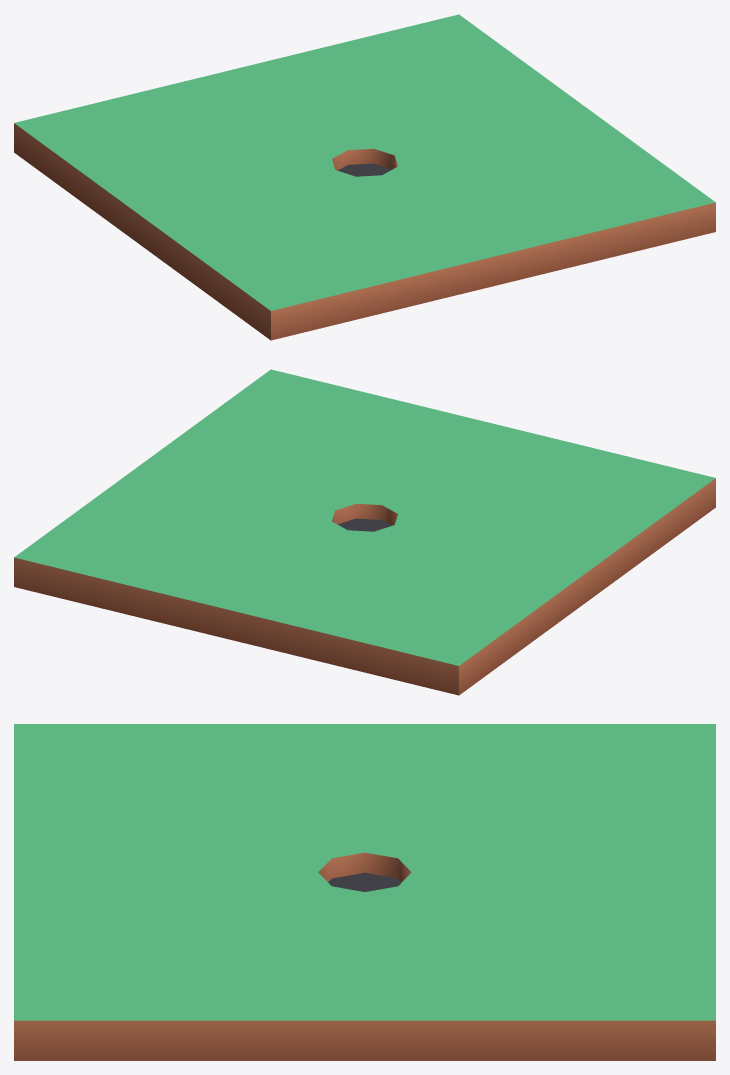
File: hole-open.glb
3 renders of one model, top to bottom at view 1: azimuth 30°, elevation 25°; view 2: azimuth 150°, elevation 25°; view 3: azimuth 270°, elevation 25°, orthographic. The views are drawn at different scales.
Visible parts, largest first — view 1: hole-open; view 2: hole-open; view 3: hole-open.
Boxes of the visible parts, box(x1,y1,x2,y2) form: hole-open: box(14, 14, 715, 340); hole-open: box(14, 369, 715, 695); hole-open: box(14, 724, 715, 1060).
Bounding box in the file's own units: 0.9999 × 0.0634 × 0.9999.
1 material, 1 textured.
